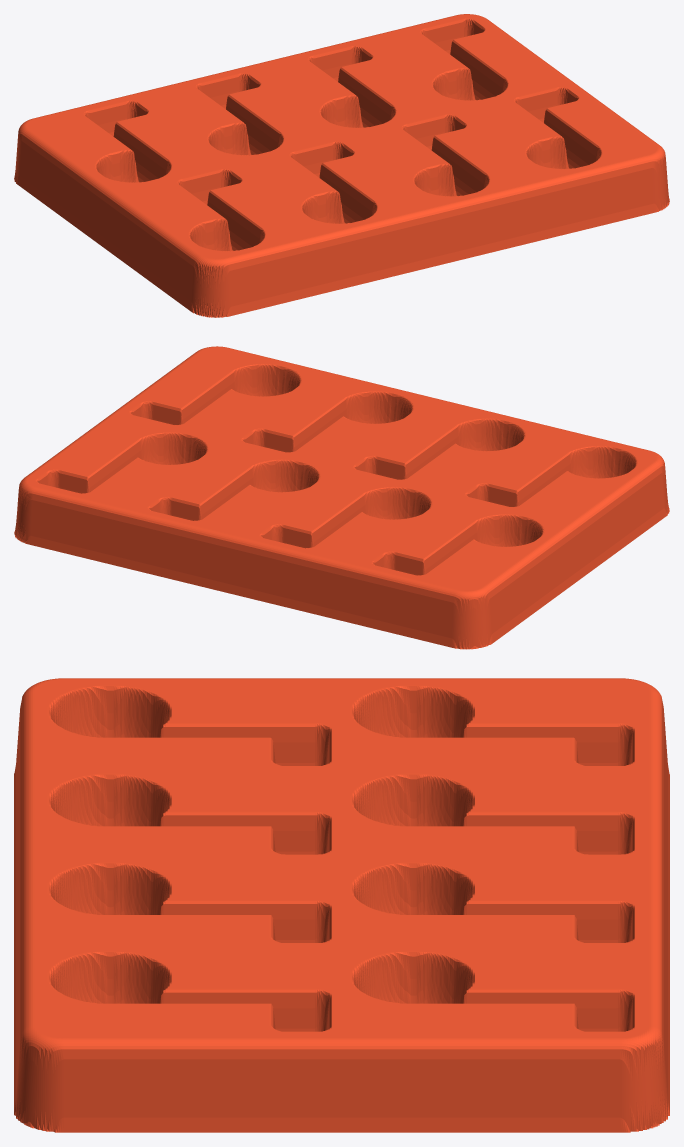
The model's file is mold.glb.
The picture shows the model from 3 angles, top to bottom: view 1: azimuth 30°, elevation 25°; view 2: azimuth 150°, elevation 25°; view 3: azimuth 270°, elevation 25°; orthographic projection. The views are drawn at different scales.
Visible parts, largest first — view 1: geometry_0; view 2: geometry_0; view 3: geometry_0.
Part boxes in pixels (x1,y1,x2,y2): geometry_0: (14,14,669,317); geometry_0: (14,346,669,649); geometry_0: (14,678,669,1132).
Size of the model in its own units: 0.1637 by 0.0175 by 0.1209.
